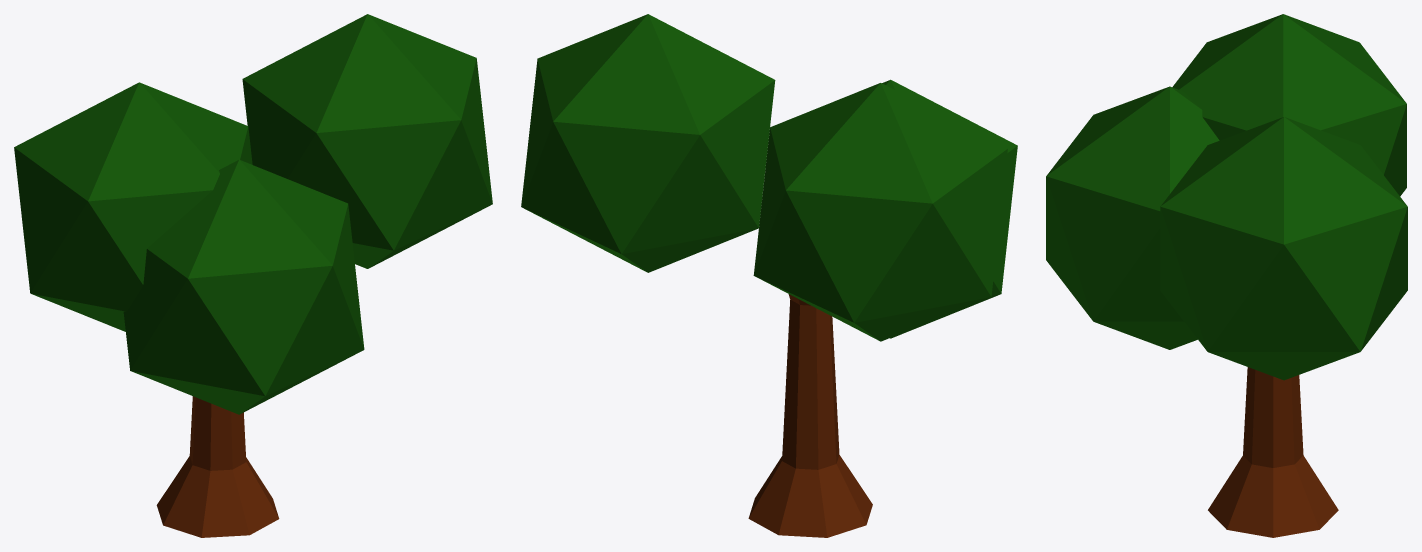
Rendered from tree_1.glb.
The picture shows the model from 3 angles, left to right: view 1: azimuth 30°, elevation 25°; view 2: azimuth 150°, elevation 25°; view 3: azimuth 270°, elevation 25°; orthographic projection. The views are drawn at different scales.
Parts seen in each view (by area): view 1: Icosphere.002; view 2: Icosphere.002; view 3: Icosphere.002.
Part boxes in pixels (left/top/right/bottom): Icosphere.002: left=14, top=14, right=492, bottom=537; Icosphere.002: left=521, top=14, right=1017, bottom=537; Icosphere.002: left=1046, top=14, right=1407, bottom=537.
Size of the model in its own units: 10.49 by 10.24 by 7.12.
